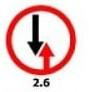road_sign: (6, 5, 74, 74)
